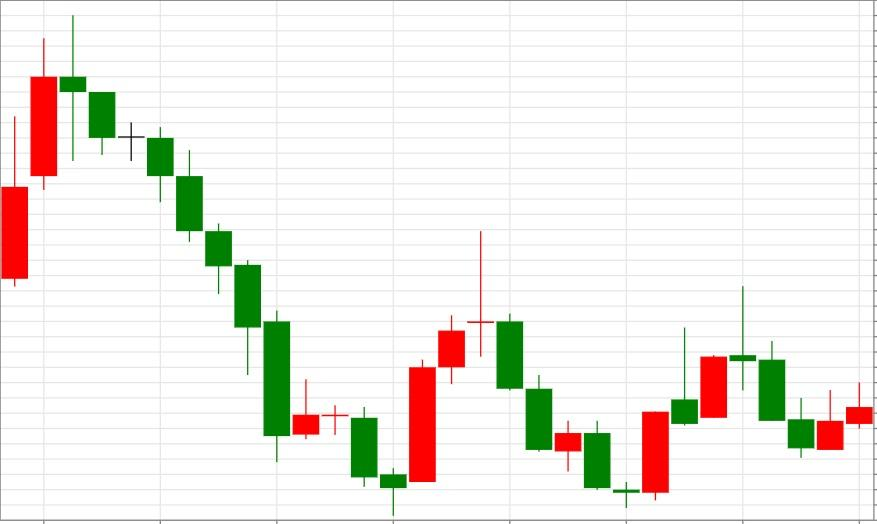evening_star_fall: (380, 229, 524, 517), (612, 285, 786, 508)
morning_star_rise: (467, 229, 670, 508)
